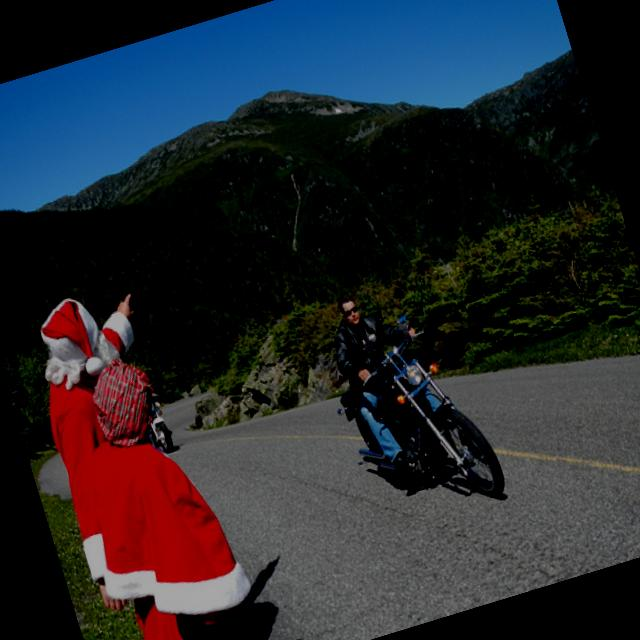Vehicle: (314, 303, 514, 537), (138, 396, 174, 458)
